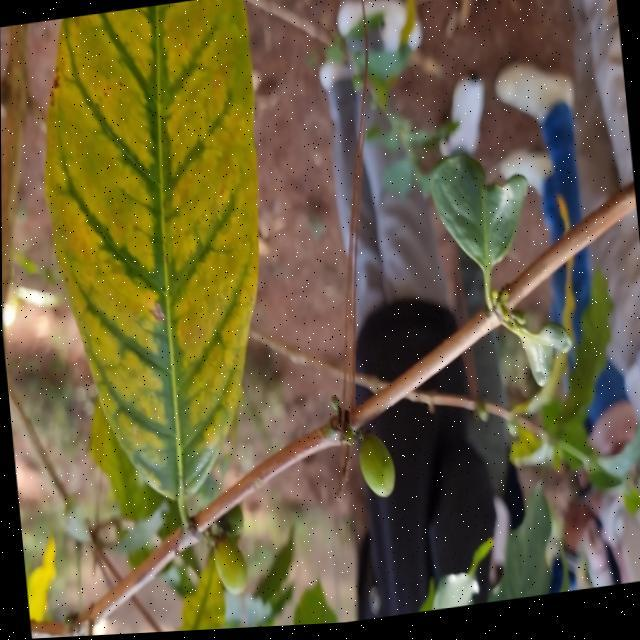leaves: (42, 0, 262, 527)
